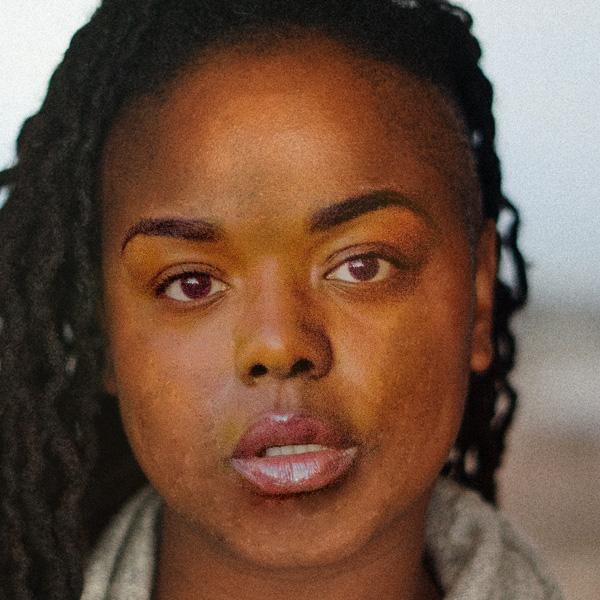Eyes: (308, 237, 423, 306), (138, 252, 241, 325)
